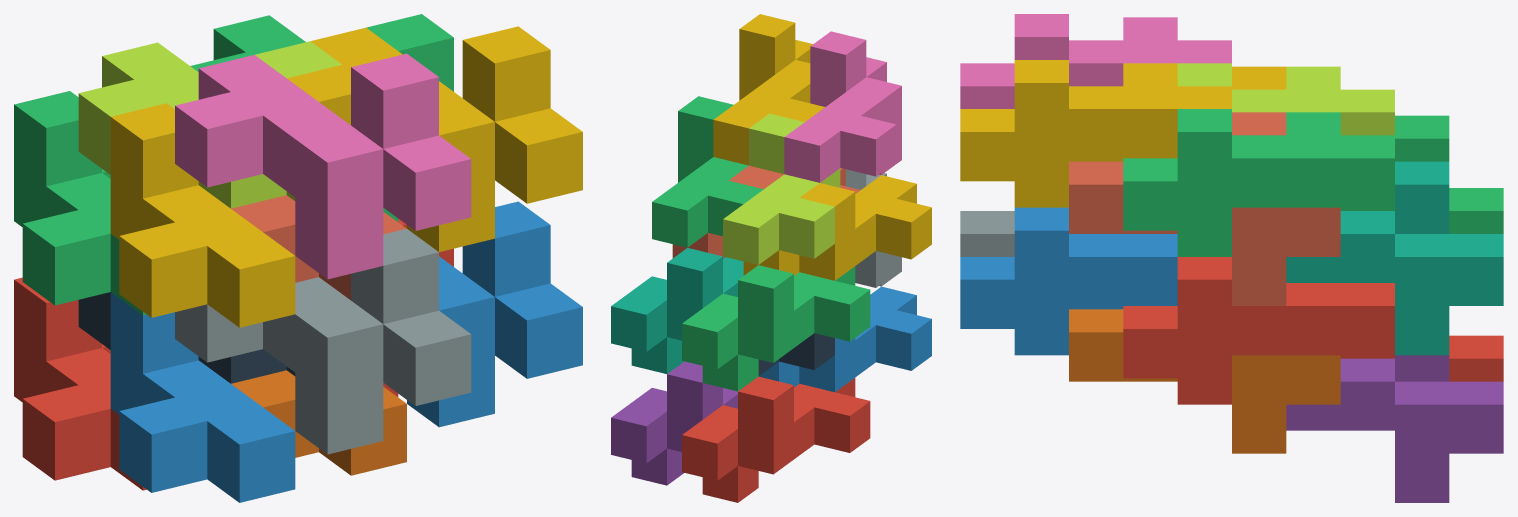
Rendered from tiling.obj.
3 renders of one model, left to right at view 1: azimuth 30°, elevation 25°; view 2: azimuth 150°, elevation 25°; view 3: azimuth 270°, elevation 25°, orthographic. The views are drawn at different scales.
Parts seen in each view (by area): view 1: copy_2_domain_4, copy_2_domain_2, copy_1_domain_4, copy_2_domain_8, copy_1_domain_2, copy_2_domain_6, copy_1_domain_3, copy_1_domain_1, copy_2_domain_3, copy_2_domain_7, copy_1_domain_6, copy_1_domain_8 (+1 smaller); view 2: copy_1_domain_3, copy_1_domain_1, copy_2_domain_4, copy_2_domain_3, copy_1_domain_4, copy_1_domain_7, copy_2_domain_8, copy_2_domain_7, copy_1_domain_5, copy_1_domain_2, copy_2_domain_2, copy_1_domain_8 (+1 smaller); view 3: copy_2_domain_7, copy_2_domain_5, copy_2_domain_8, copy_1_domain_7, copy_2_domain_6, copy_1_domain_5, copy_1_domain_8, copy_1_domain_6, copy_2_domain_4, copy_2_domain_3, copy_1_domain_3, copy_1_domain_1 (+2 smaller).
Boxes of the visible parts, x1,y1,x2,y2 form: copy_2_domain_4: (175,53,471,279); copy_2_domain_2: (175,228,471,454); copy_1_domain_4: (110,103,295,327); copy_2_domain_8: (287,26,582,251); copy_1_domain_2: (110,292,295,502); copy_2_domain_6: (407,201,582,427); copy_1_domain_3: (14,91,146,315); copy_1_domain_1: (14,277,146,490); copy_2_domain_3: (78,41,341,208); copy_2_domain_7: (190,14,453,221); copy_1_domain_6: (231,370,406,475); copy_1_domain_8: (231,195,406,300); copy_1_domain_3: (682,265,870,391); copy_1_domain_1: (682,376,870,502); copy_2_domain_4: (784,31,901,182); copy_2_domain_3: (723,113,840,264); copy_1_domain_4: (743,175,931,280); copy_1_domain_7: (611,248,743,373); copy_2_domain_8: (713,14,824,165); copy_2_domain_7: (652,96,763,247); copy_1_domain_5: (611,361,737,485); copy_1_domain_2: (759,286,931,392); copy_2_domain_2: (846,169,901,287); copy_1_domain_8: (672,165,860,258); copy_2_domain_7: (1123,109,1394,256); copy_2_domain_5: (1123,257,1394,404); copy_2_domain_8: (960,60,1231,207); copy_1_domain_7: (1286,161,1503,355); copy_2_domain_6: (960,207,1177,355); copy_1_domain_5: (1286,355,1503,502); copy_1_domain_8: (1069,112,1340,305); copy_1_domain_6: (1069,309,1340,453); copy_2_domain_4: (960,14,1231,108); copy_2_domain_3: (1177,63,1394,135); copy_1_domain_3: (1340,115,1503,233); copy_1_domain_1: (1340,335,1503,381).
Size of the model in its own units: 6 by 9 by 10.
